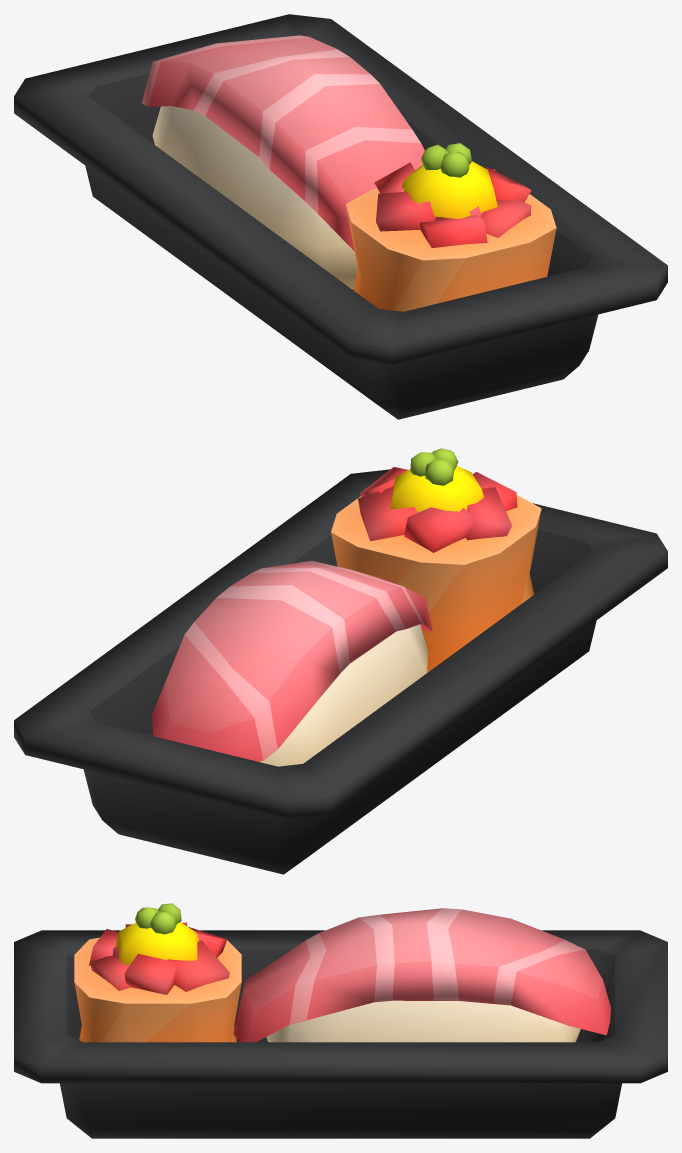
The model's file is Set_1_017.gltf.
3 views of the same model, one above another, from view 1: azimuth 30°, elevation 25°; view 2: azimuth 150°, elevation 25°; view 3: azimuth 270°, elevation 25° (orthographic). The views are drawn at different scales.
Visible parts, largest first — view 1: Box_Plastic_Black_Small_001.003, Nigiri_Tuna_Fat_001.001, Sushi_Small_Salmon_007.001; view 2: Box_Plastic_Black_Small_001.003, Nigiri_Tuna_Fat_001.001, Sushi_Small_Salmon_007.001; view 3: Box_Plastic_Black_Small_001.003, Nigiri_Tuna_Fat_001.001, Sushi_Small_Salmon_007.001.
Boxes of the visible parts, x1,y1,x2,y2 form: Box_Plastic_Black_Small_001.003: (14, 14, 667, 419); Nigiri_Tuna_Fat_001.001: (142, 35, 424, 289); Sushi_Small_Salmon_007.001: (346, 143, 556, 311); Box_Plastic_Black_Small_001.003: (14, 469, 667, 874); Nigiri_Tuna_Fat_001.001: (151, 560, 432, 766); Sushi_Small_Salmon_007.001: (331, 448, 541, 672); Box_Plastic_Black_Small_001.003: (14, 930, 667, 1138); Nigiri_Tuna_Fat_001.001: (233, 908, 610, 1042); Sushi_Small_Salmon_007.001: (74, 903, 241, 1042).
Size of the model in its own units: 0.9973 by 0.6691 by 2.
Materials: 1 (1 with a texture image).
